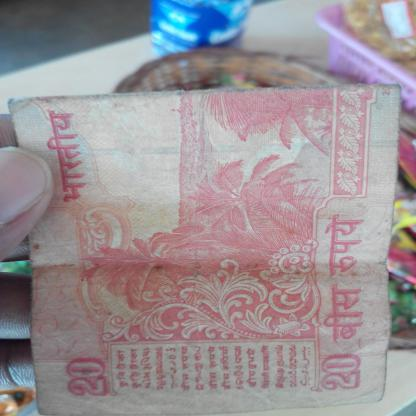Old20Back: (33, 91, 387, 416)
